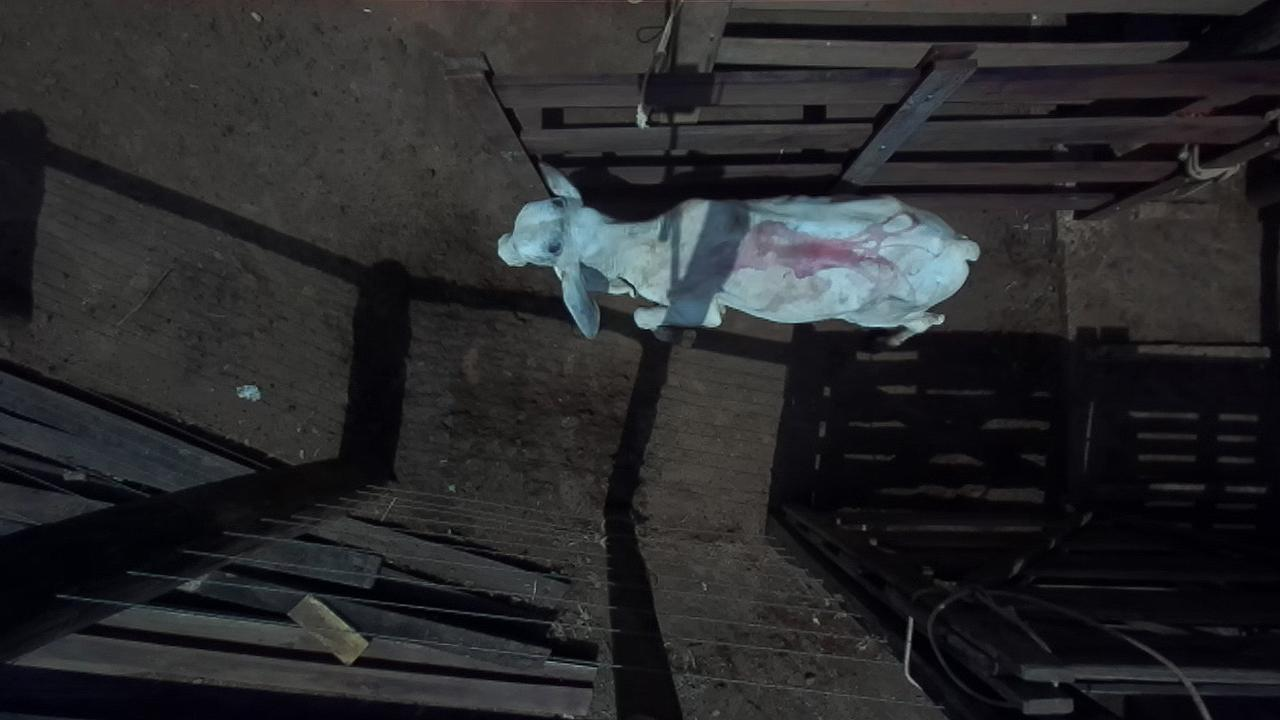cattle: (496, 157, 981, 346)
